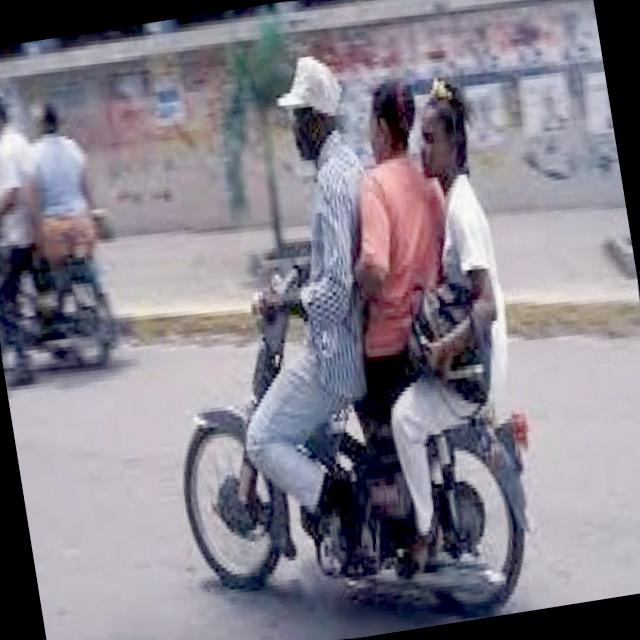motorcycle: (146, 228, 564, 640)
person: (214, 47, 408, 464), (372, 67, 534, 436), (336, 65, 479, 404)
rider_region: (117, 28, 590, 640)
